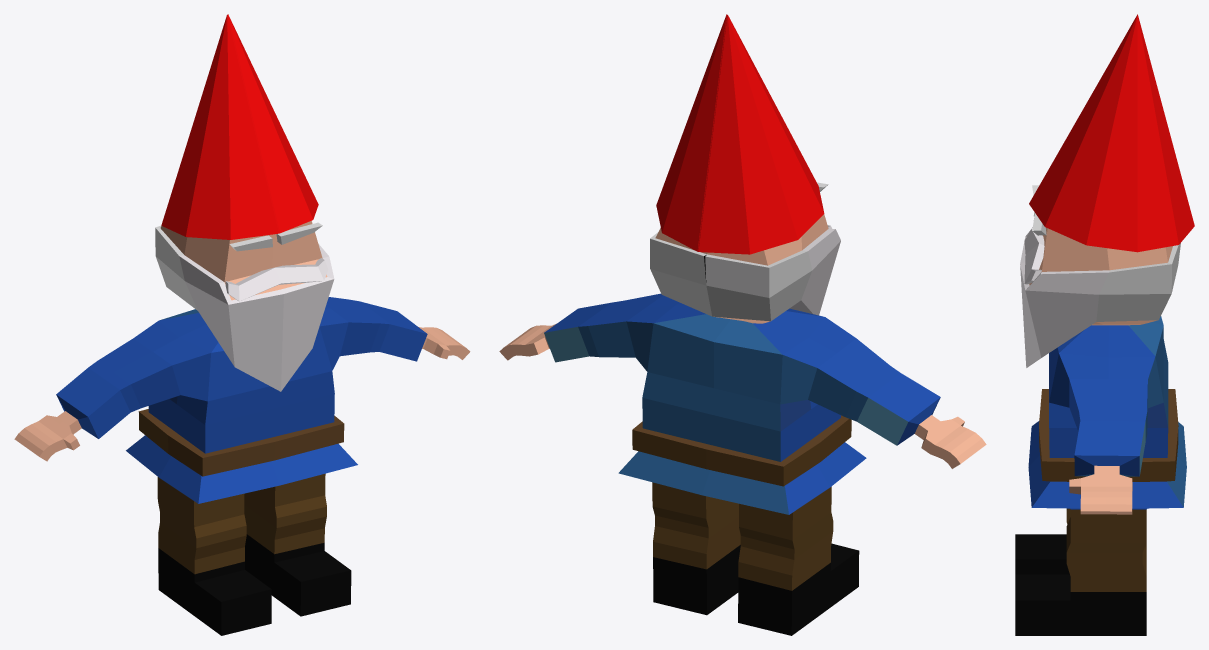
File: Kabouter.fbx
3 views of the same model, side by side, from view 1: azimuth 30°, elevation 25°; view 2: azimuth 150°, elevation 25°; view 3: azimuth 270°, elevation 25° (orthographic). The views are drawn at different scales.
Visible parts, largest first — view 1: Cube; view 2: Cube; view 3: Cube.
Boxes of the visible parts, bbox=[...] form: Cube: bbox=[14, 14, 470, 635]; Cube: bbox=[499, 14, 986, 635]; Cube: bbox=[1015, 14, 1194, 635].
Bounding box in the file's own units: 142 × 177 × 48.84.
